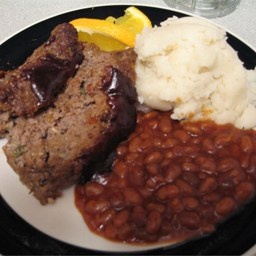background: (0, 2, 102, 98)
